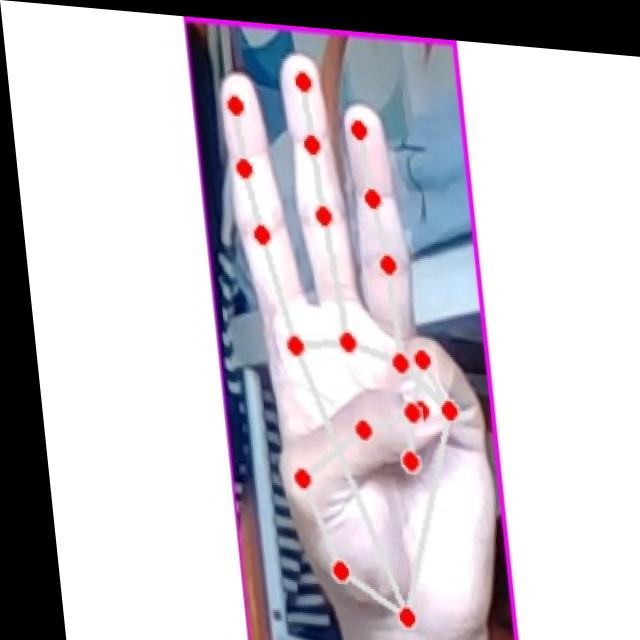W: (210, 40, 492, 640)
